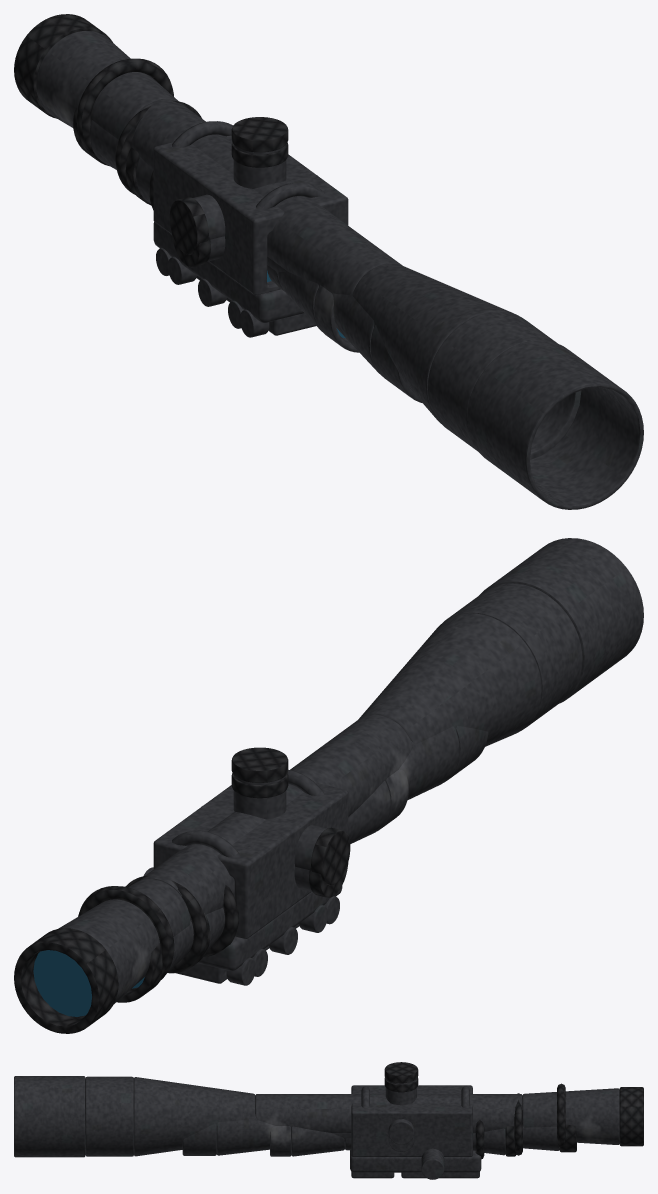
Rendered from gun_attach.glb.
3 renders of one model, top to bottom at view 1: azimuth 30°, elevation 25°; view 2: azimuth 150°, elevation 25°; view 3: azimuth 270°, elevation 25°, orthographic. The views are drawn at different scales.
Visible parts, largest first — view 1: ATT_x8, ATT_holo, ATT_x4, ATT_x2; view 2: ATT_x8, ATT_holo, ATT_x4, ATT_x2; view 3: ATT_x8, ATT_holo, ATT_x4, ATT_x2.
Part boxes in pixels (bbox=[...]): ATT_x8: bbox=[14, 14, 643, 509]; ATT_holo: bbox=[153, 135, 348, 328]; ATT_x4: bbox=[73, 100, 421, 402]; ATT_x2: bbox=[125, 147, 358, 352]; ATT_x8: bbox=[14, 538, 643, 1033]; ATT_holo: bbox=[143, 783, 348, 976]; ATT_x4: bbox=[116, 726, 488, 1002]; ATT_x2: bbox=[175, 769, 408, 985]; ATT_x8: bbox=[14, 1062, 643, 1157]; ATT_holo: bbox=[350, 1085, 481, 1179]; ATT_x4: bbox=[182, 1077, 576, 1155]; ATT_x2: bbox=[270, 1120, 516, 1178].
Bounding box in the file's own units: 0.078 × 0.081 × 0.441.
4 materials, 2 textured.
